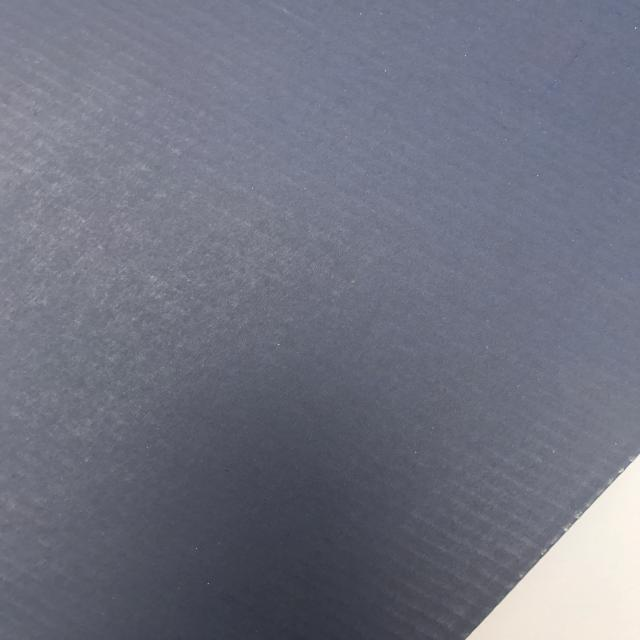cardboard: (1, 1, 639, 640)
